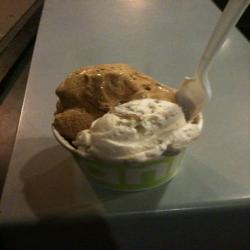icecream: (51, 63, 209, 196)
